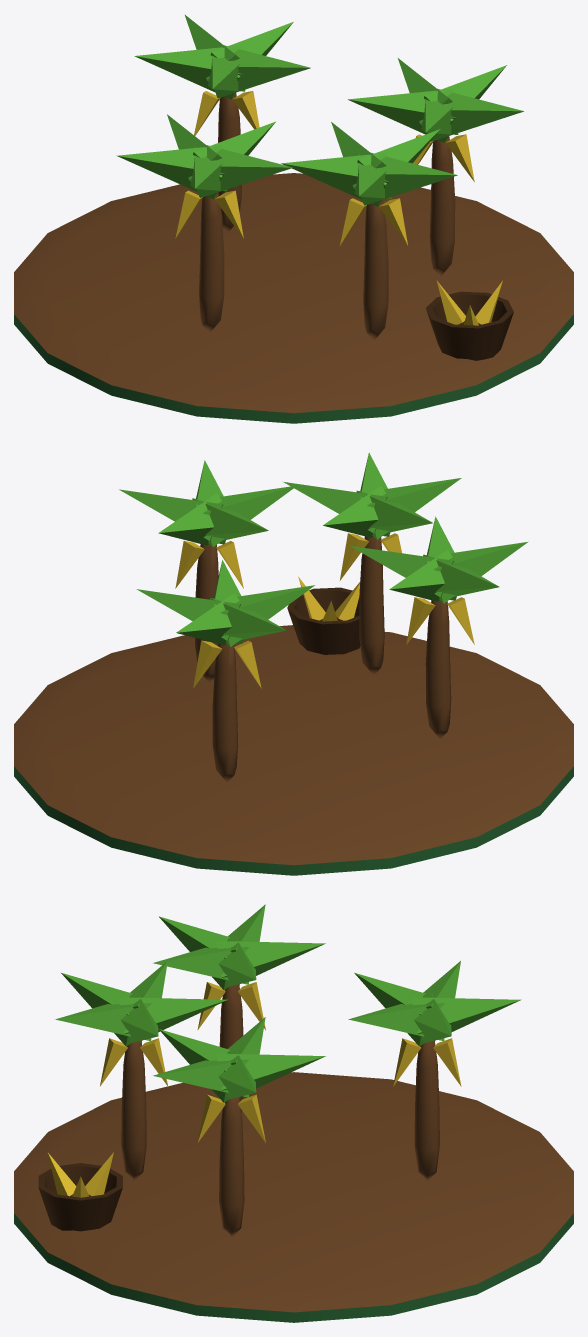
3 renders of one model, top to bottom at view 1: azimuth 30°, elevation 25°; view 2: azimuth 150°, elevation 25°; view 3: azimuth 270°, elevation 25°, orthographic.
Parts seen in each view (by area): view 1: fazenda_0_base, fazenda_1_torreta; view 2: fazenda_0_base, fazenda_1_torreta; view 3: fazenda_0_base, fazenda_1_torreta.
Boxes of the visible parts, bbox=[...] form: fazenda_0_base: bbox=[14, 173, 573, 423]; fazenda_1_torreta: bbox=[116, 15, 523, 340]; fazenda_0_base: bbox=[14, 576, 573, 875]; fazenda_1_torreta: bbox=[119, 452, 528, 782]; fazenda_0_base: bbox=[14, 1072, 573, 1322]; fazenda_1_torreta: bbox=[55, 904, 521, 1237].
Bounding box in the file's own units: 1.28 × 0.5151 × 1.26.
